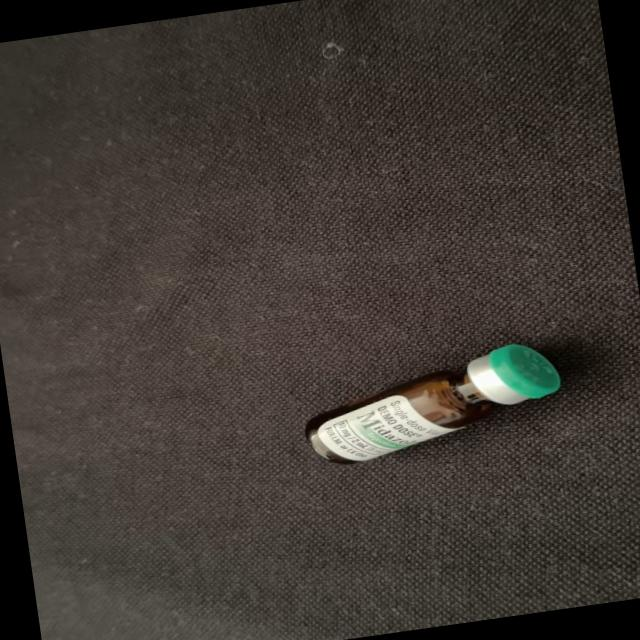midazolm: (302, 339, 564, 466)
